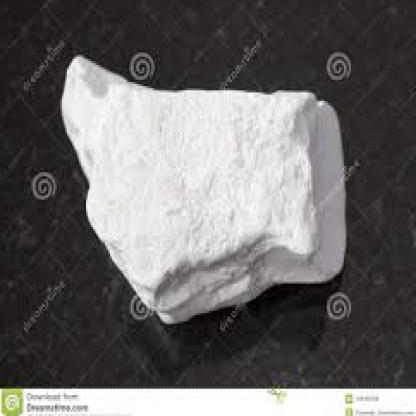Sedimentary_Chalk: (55, 42, 364, 324)
